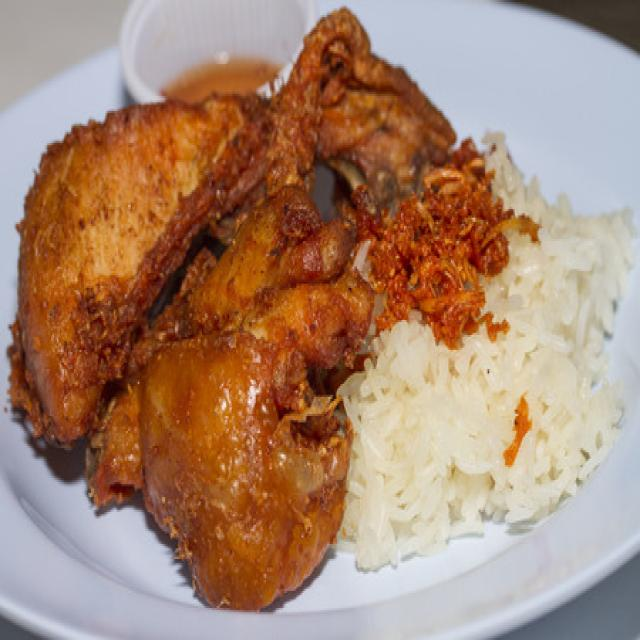carb: (340, 143, 635, 569)
meat: (9, 19, 454, 608)
